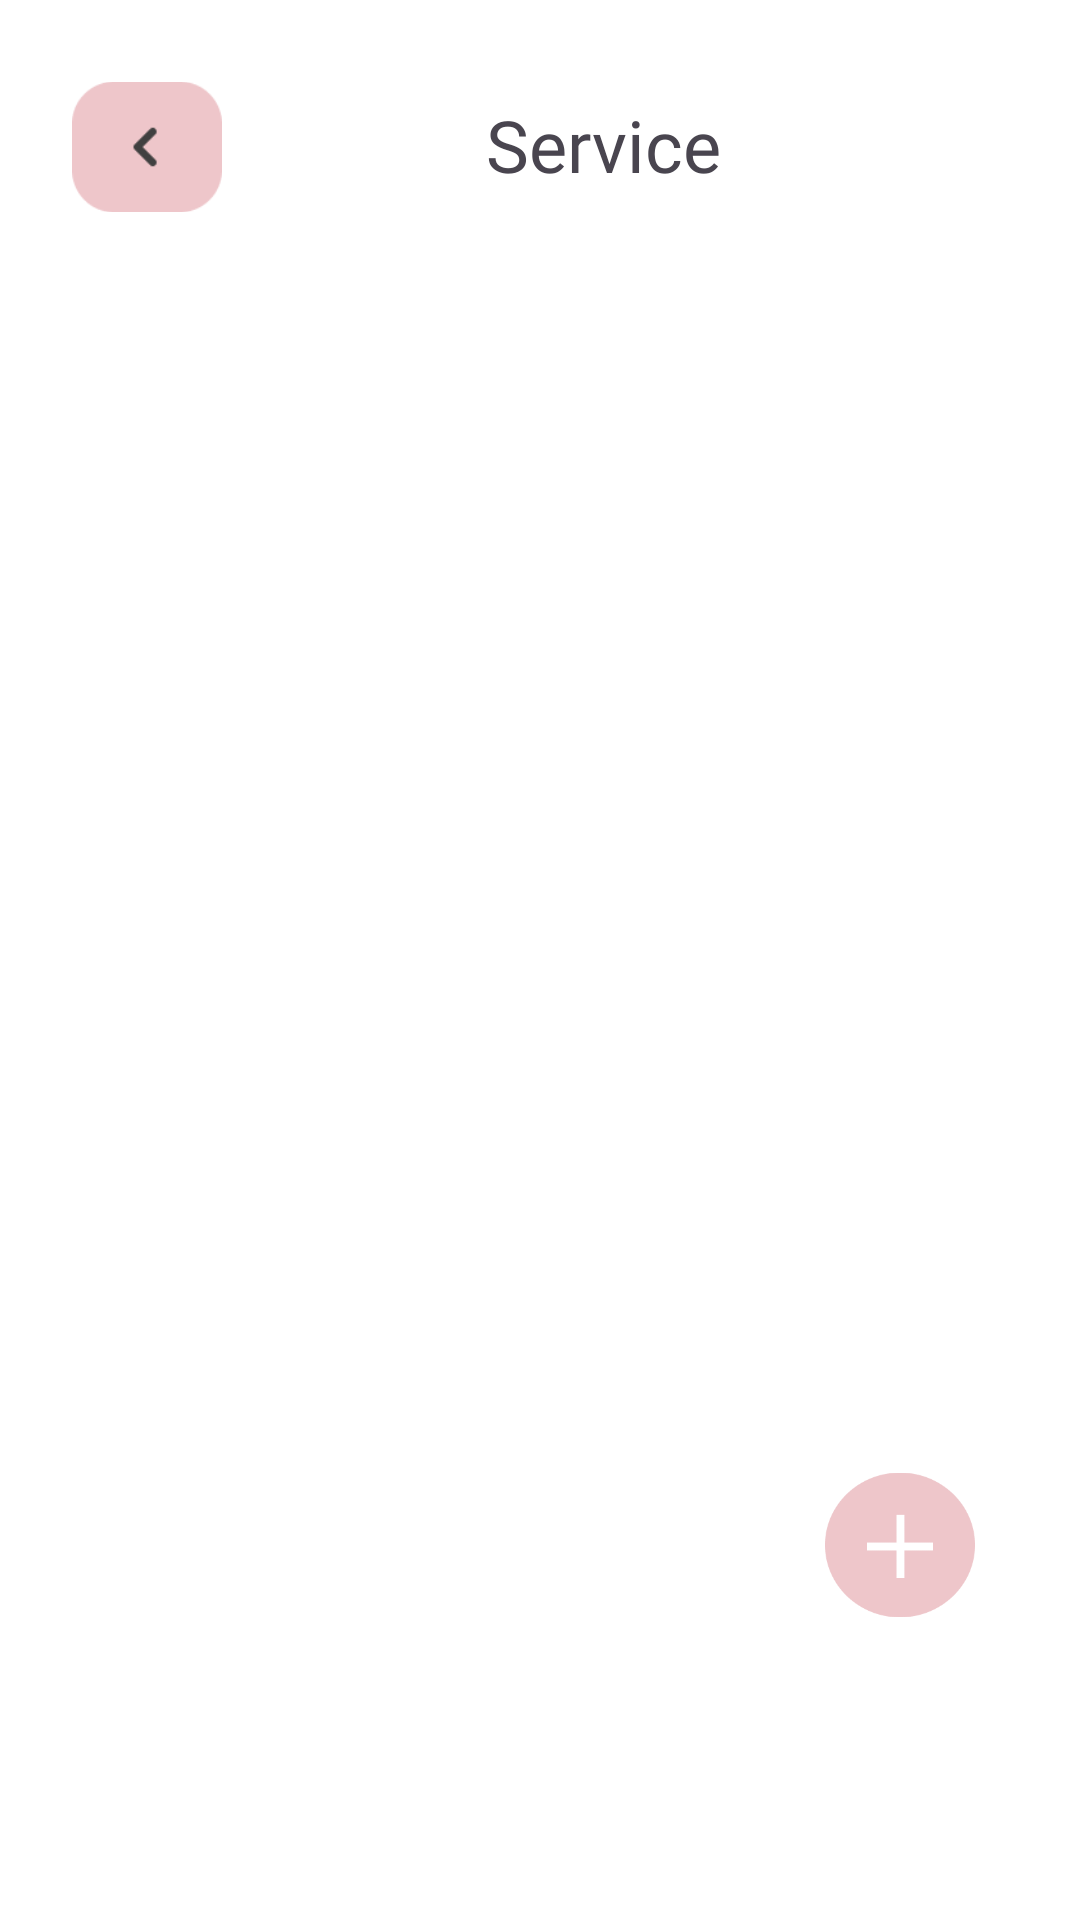

Named icons in this screenshot (1080*1920) and their centers, [x,y]:
add: [900,1545]
arrow: [147,147]
